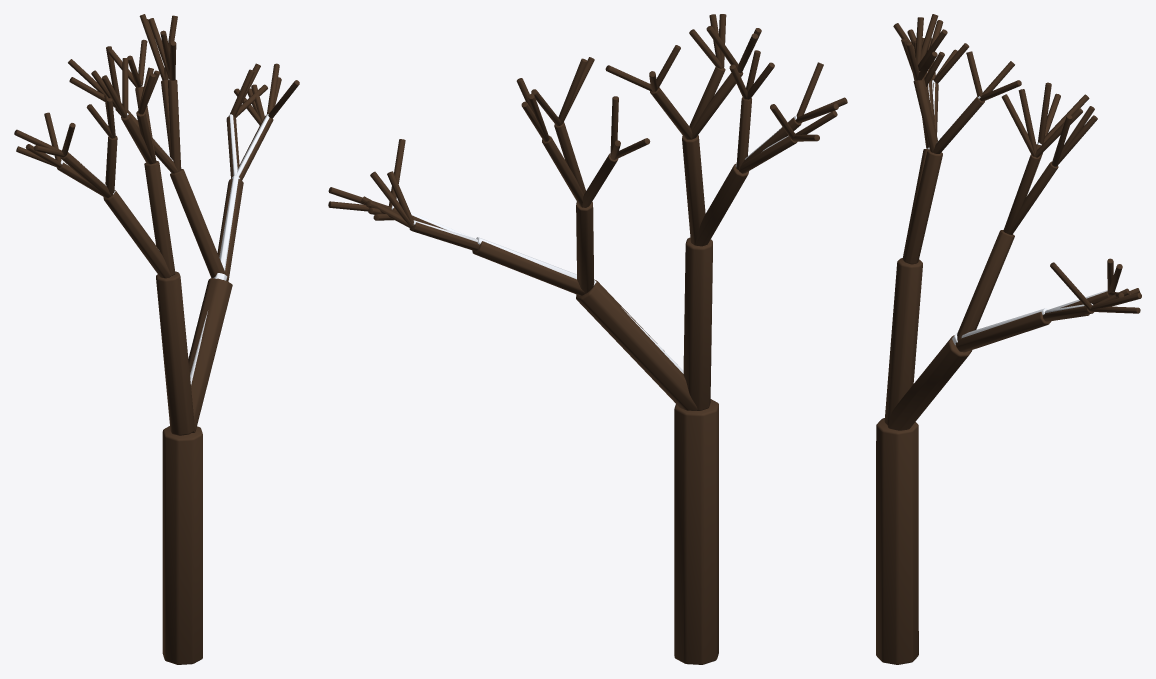
The model's file is tree_bare2.glb.
3 views of the same model, side by side, from view 1: azimuth 30°, elevation 25°; view 2: azimuth 150°, elevation 25°; view 3: azimuth 270°, elevation 25° (orthographic). The views are drawn at different scales.
Parts seen in each view (by area): view 1: tree_bare2; view 2: tree_bare2; view 3: tree_bare2.
Boxes of the visible parts, x1,y1,x2,y2 form: tree_bare2: (14, 14, 299, 664); tree_bare2: (328, 14, 847, 664); tree_bare2: (876, 14, 1141, 664).
Size of the model in its own units: 4.37 by 6.81 by 2.69.
